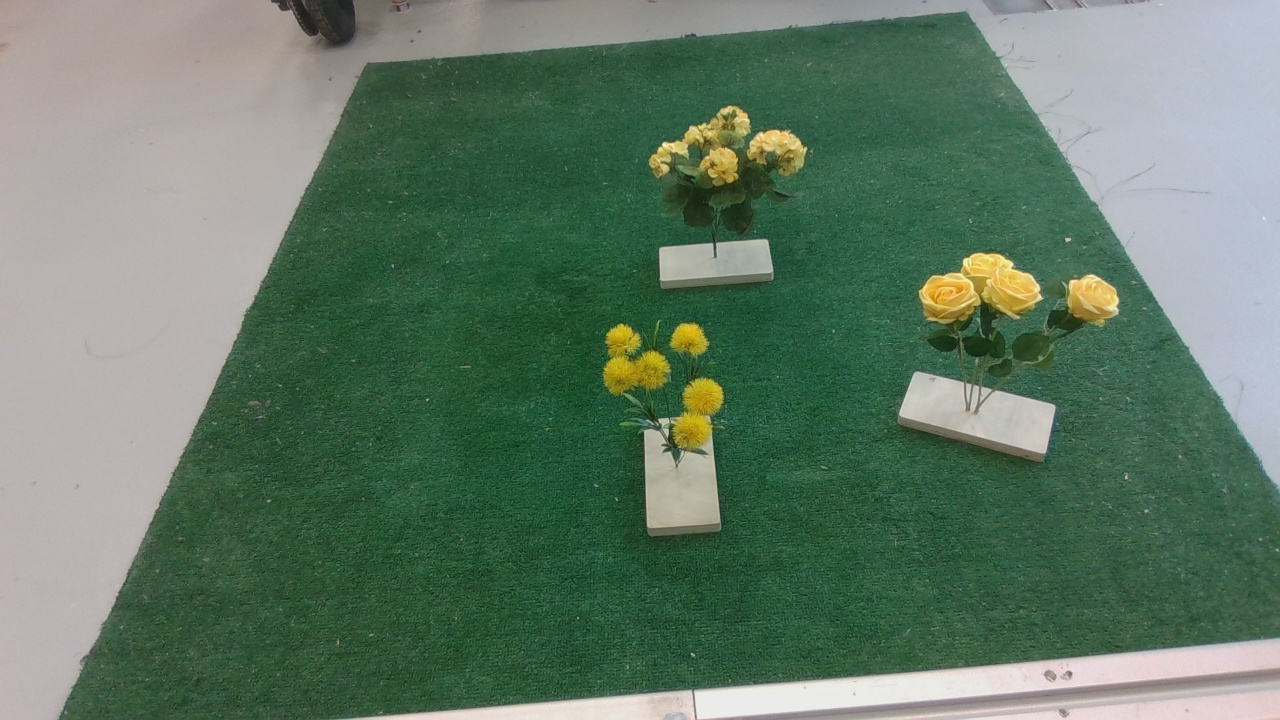dandelion: (599, 307, 733, 471)
geranium: (632, 106, 823, 243)
rose: (904, 233, 1128, 395)
